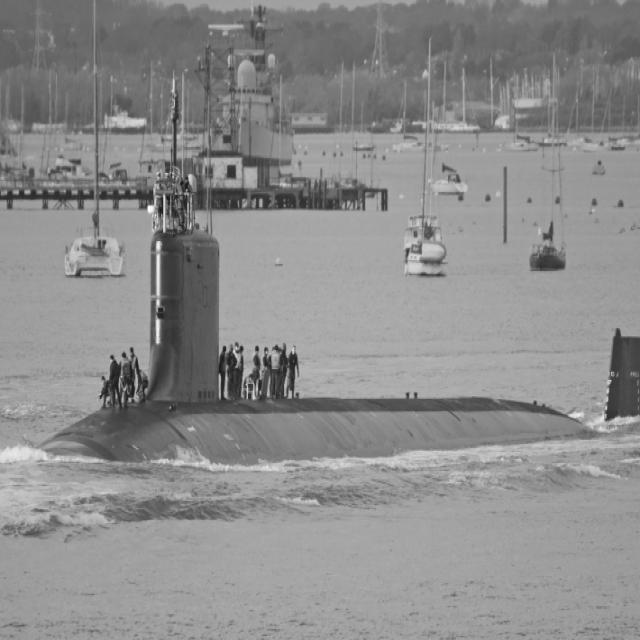submarine: (26, 63, 640, 462)
